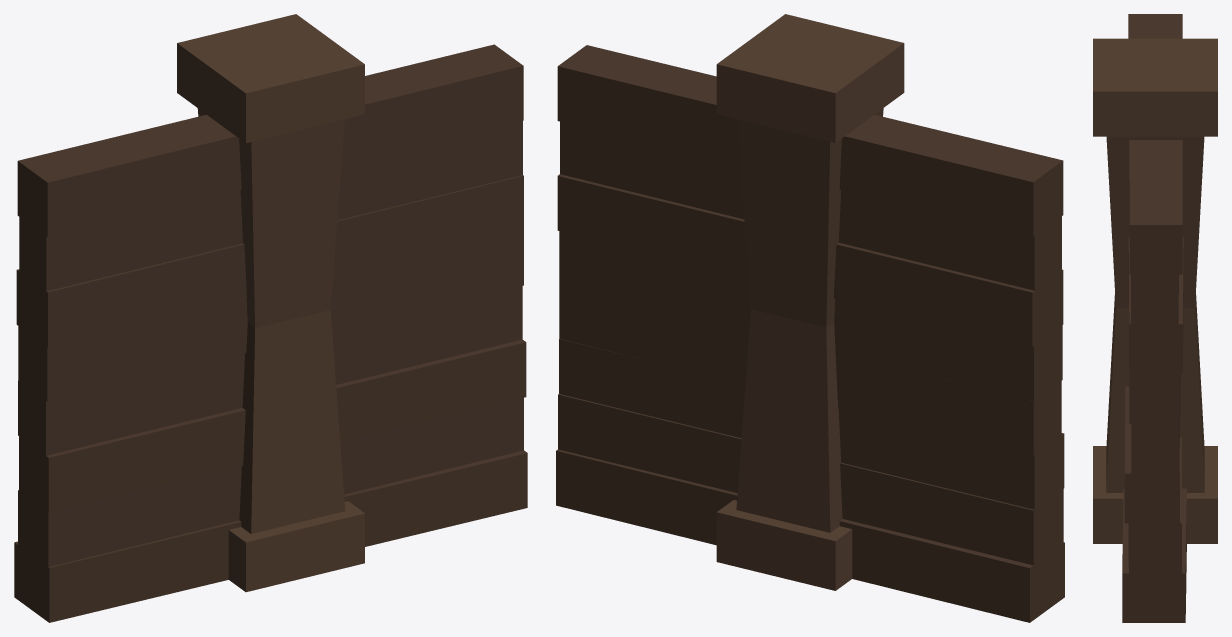
The model's file is Wall_5_Light_Brown.fbx.
3 renders of one model, left to right at view 1: azimuth 30°, elevation 25°; view 2: azimuth 150°, elevation 25°; view 3: azimuth 270°, elevation 25°, orthographic. The views are drawn at different scales.
Visible parts, largest first — view 1: Wall_5_Light_Brown; view 2: Wall_5_Light_Brown; view 3: Wall_5_Light_Brown.
Part boxes in pixels (box(x1,y1,x2,y2)): Wall_5_Light_Brown: box(14, 14, 527, 622); Wall_5_Light_Brown: box(556, 14, 1064, 622); Wall_5_Light_Brown: box(1093, 14, 1217, 622).
Size of the model in its own units: 200 by 200 by 50.
